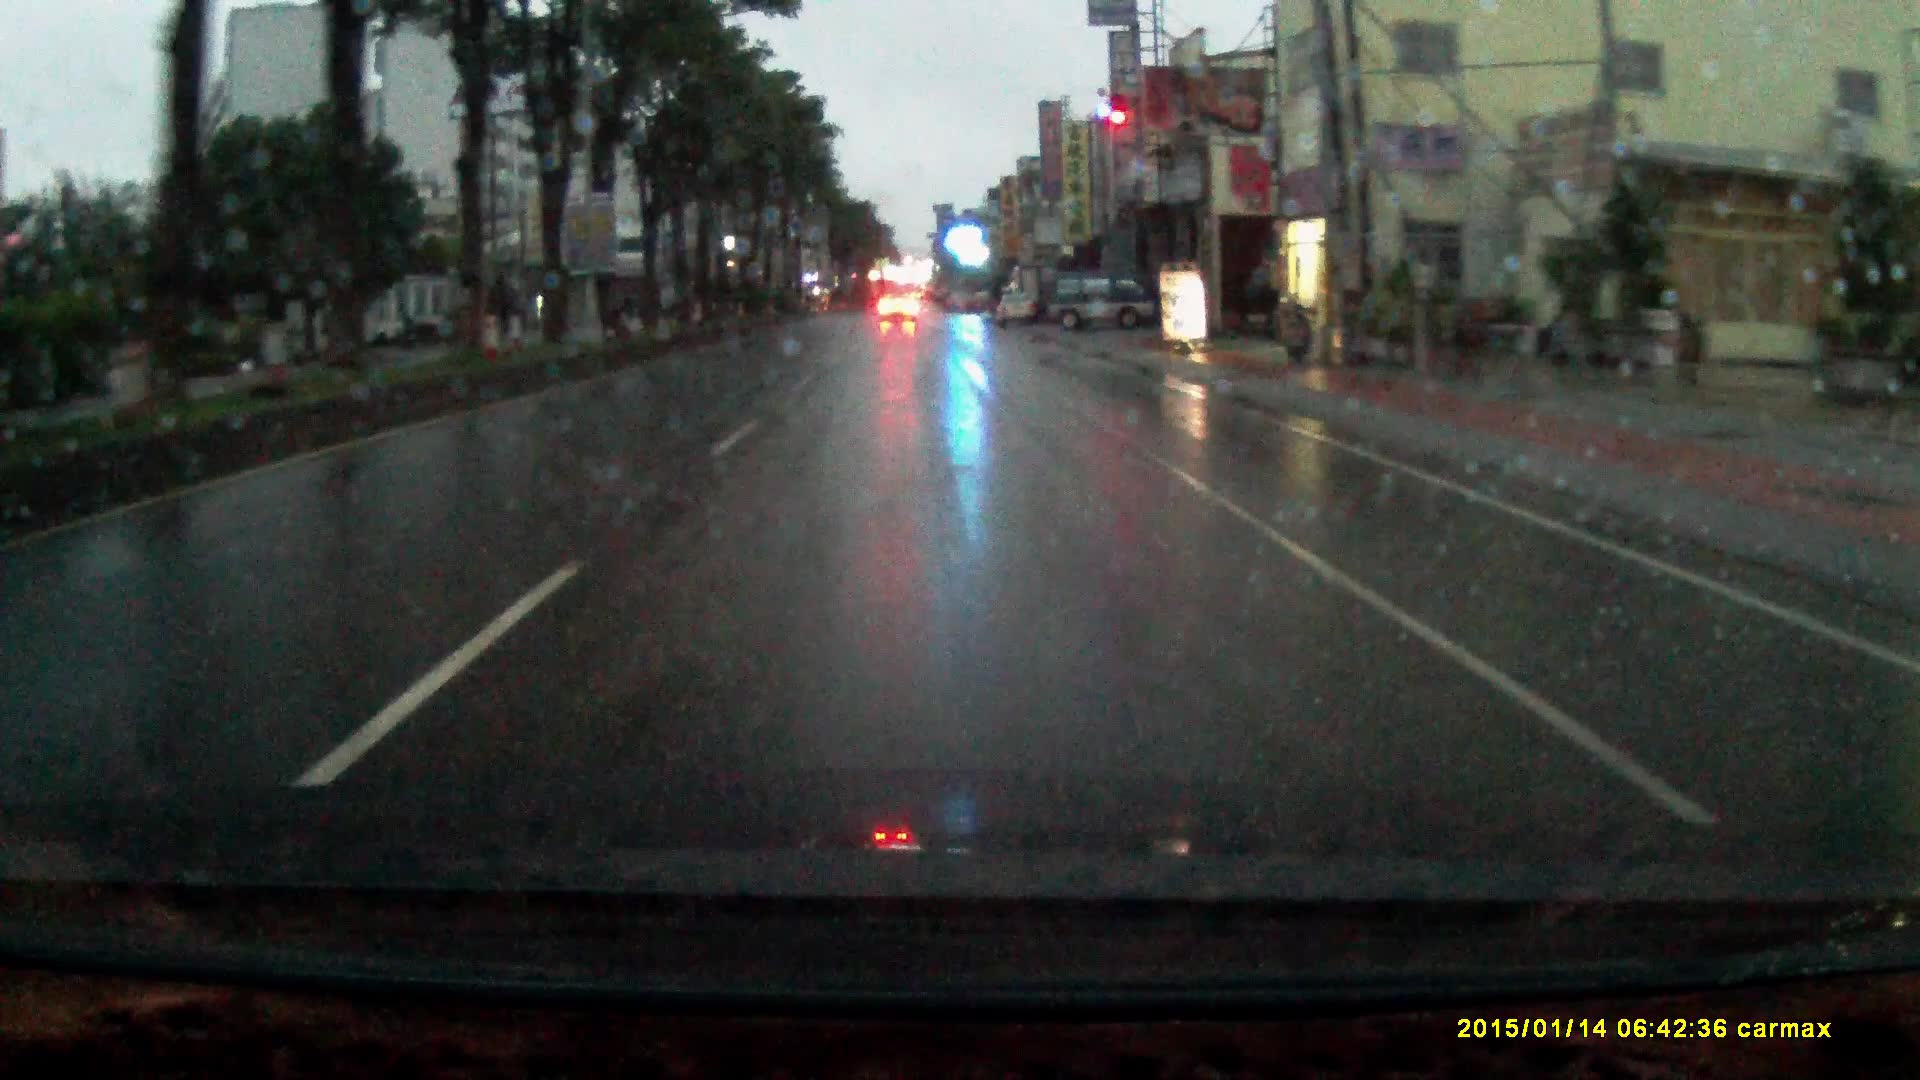vehicle: (1047, 273, 1159, 334), (996, 290, 1038, 326), (877, 289, 920, 322)
